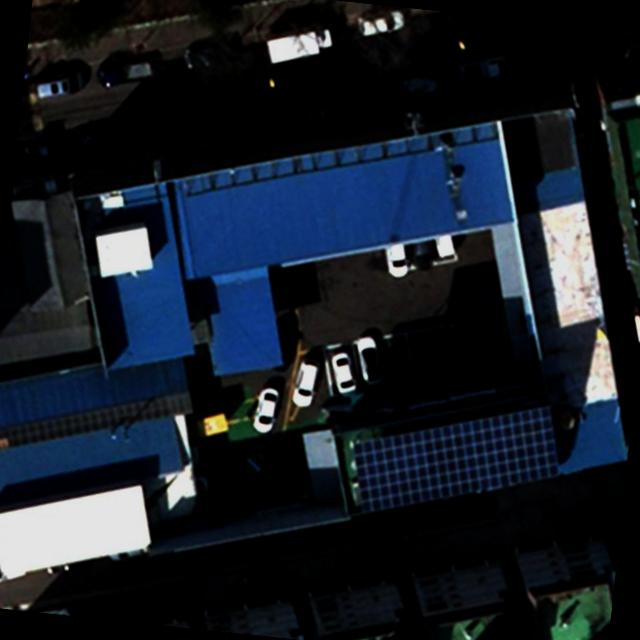solar: (341, 376, 570, 537)
